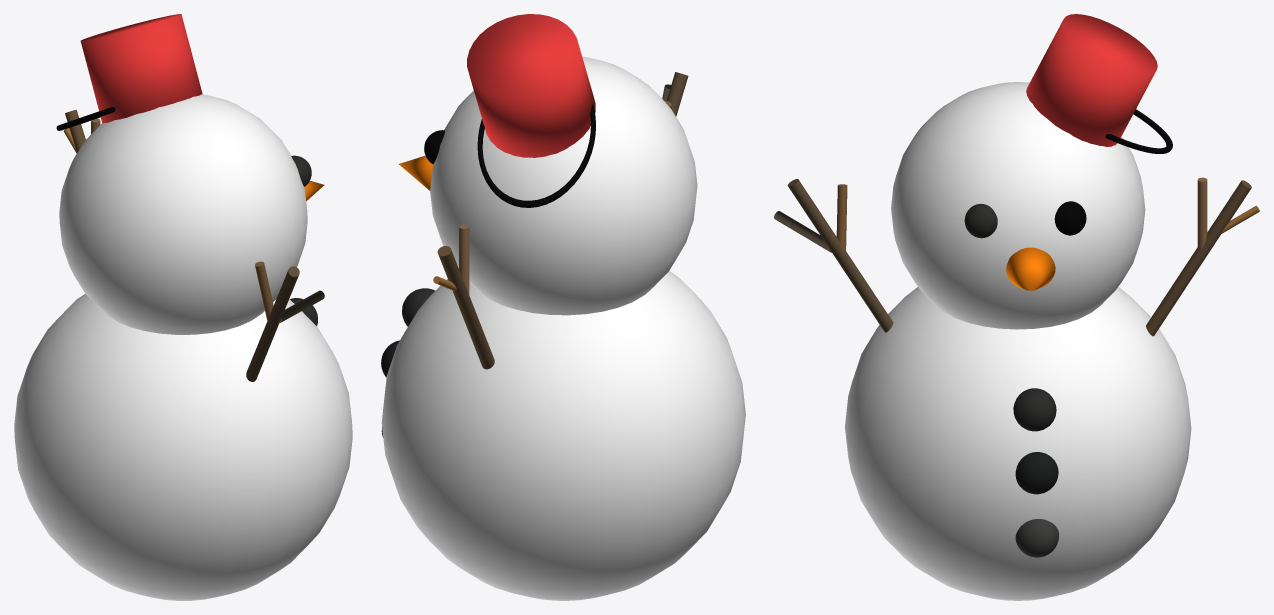
File: 雪だるま.fbx
The picture shows the model from 3 angles, left to right: view 1: azimuth 30°, elevation 25°; view 2: azimuth 150°, elevation 25°; view 3: azimuth 270°, elevation 25°; orthographic projection. The views are drawn at different scales.
Visible parts, largest first — view 1: 球; view 2: 球, ベジエ円; view 3: 球, ベジエ円.
Boxes of the visible parts, box(x1,y1,x2,y2) form: 球: box(14, 14, 352, 600); 球: box(381, 14, 745, 600); ベジエ円: box(477, 104, 595, 207); 球: box(774, 14, 1259, 600); ベジエ円: box(1105, 109, 1172, 153).
Bounding box in the file's own units: 208 × 355 × 280.
